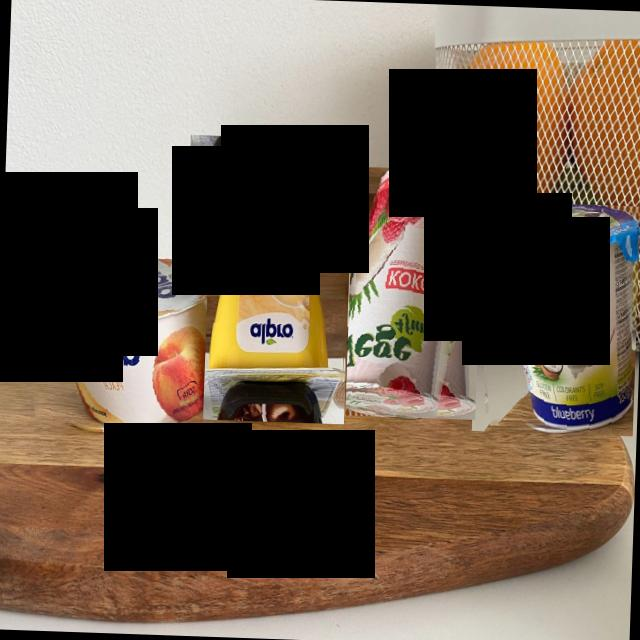yogurt: (471, 200, 640, 436), (9, 253, 208, 436), (344, 166, 484, 420), (184, 135, 348, 298), (196, 254, 350, 424)
